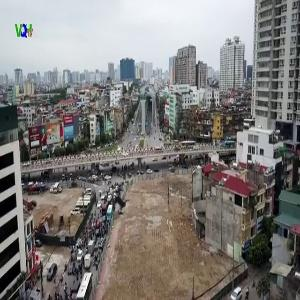drone: (92, 175, 147, 230)
